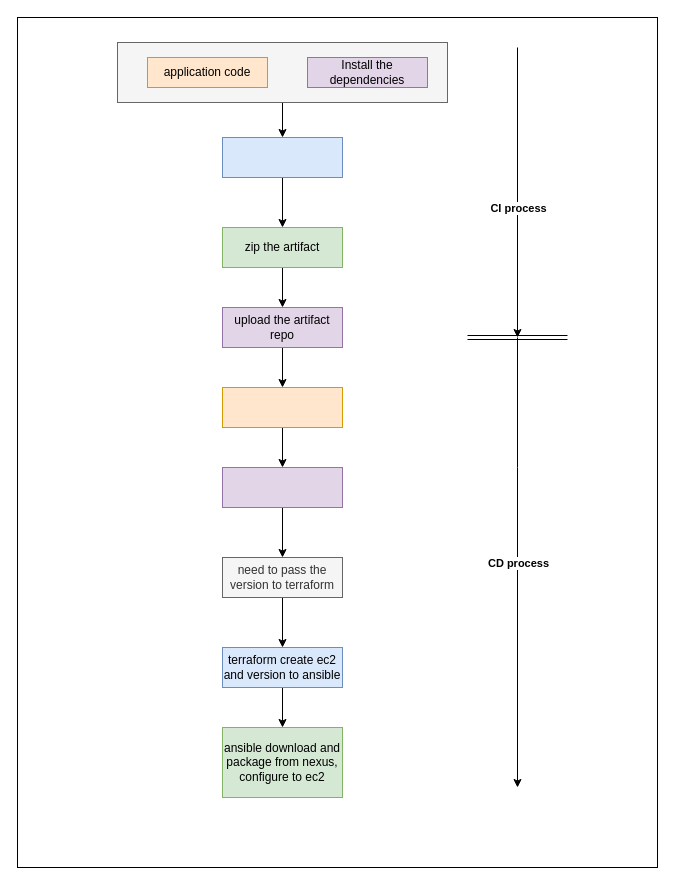
Image size: 675x885. Some labels were removed from this diagram. The box of each missing label's shape, as (x1, y1, x2, y2) in pixels:
build the artifact: (222, 136, 342, 178)
Jenkins have application version: (222, 466, 342, 508)
pull the artifact from nexus repo: (222, 386, 342, 428)
